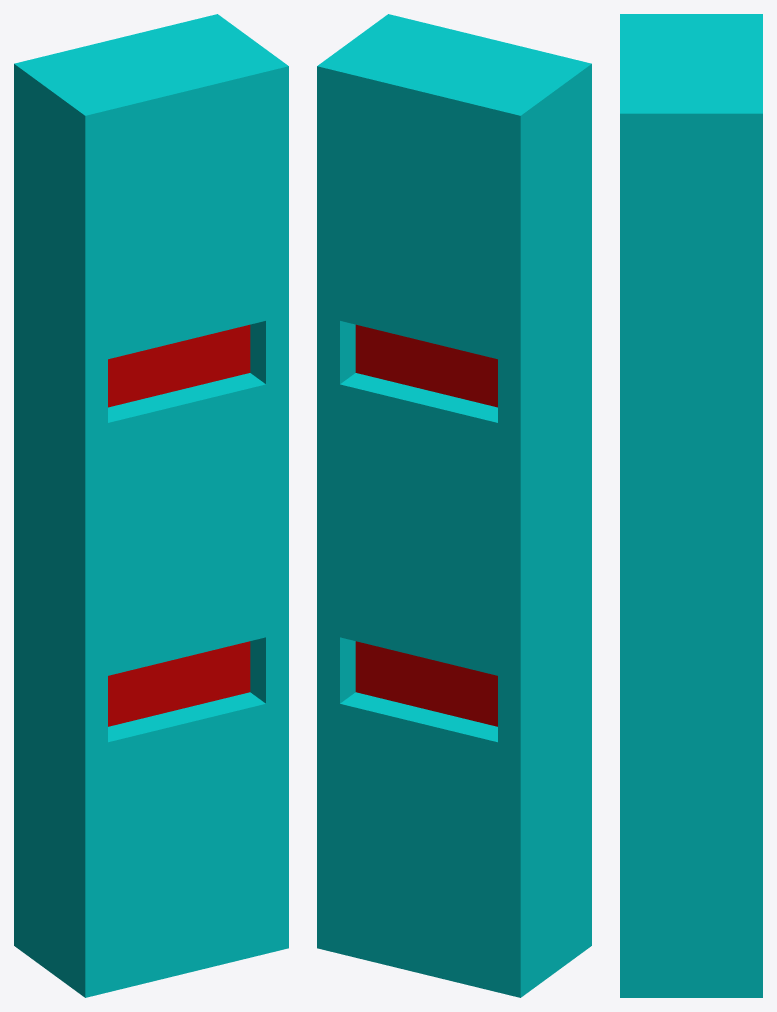
Rendered from ConcreteDoor.fbx.
3 views of the same model, side by side, from view 1: azimuth 30°, elevation 25°; view 2: azimuth 150°, elevation 25°; view 3: azimuth 270°, elevation 25° (orthographic).
Parts seen in each view (by area): view 1: ConcreteDoor; view 2: ConcreteDoor; view 3: ConcreteDoor.
Boxes of the visible parts, x1,y1,x2,y2 form: ConcreteDoor: (14,14,288,997); ConcreteDoor: (317,14,591,997); ConcreteDoor: (620,14,762,997).
Bounding box in the file's own units: 120 × 495 × 72.52.
